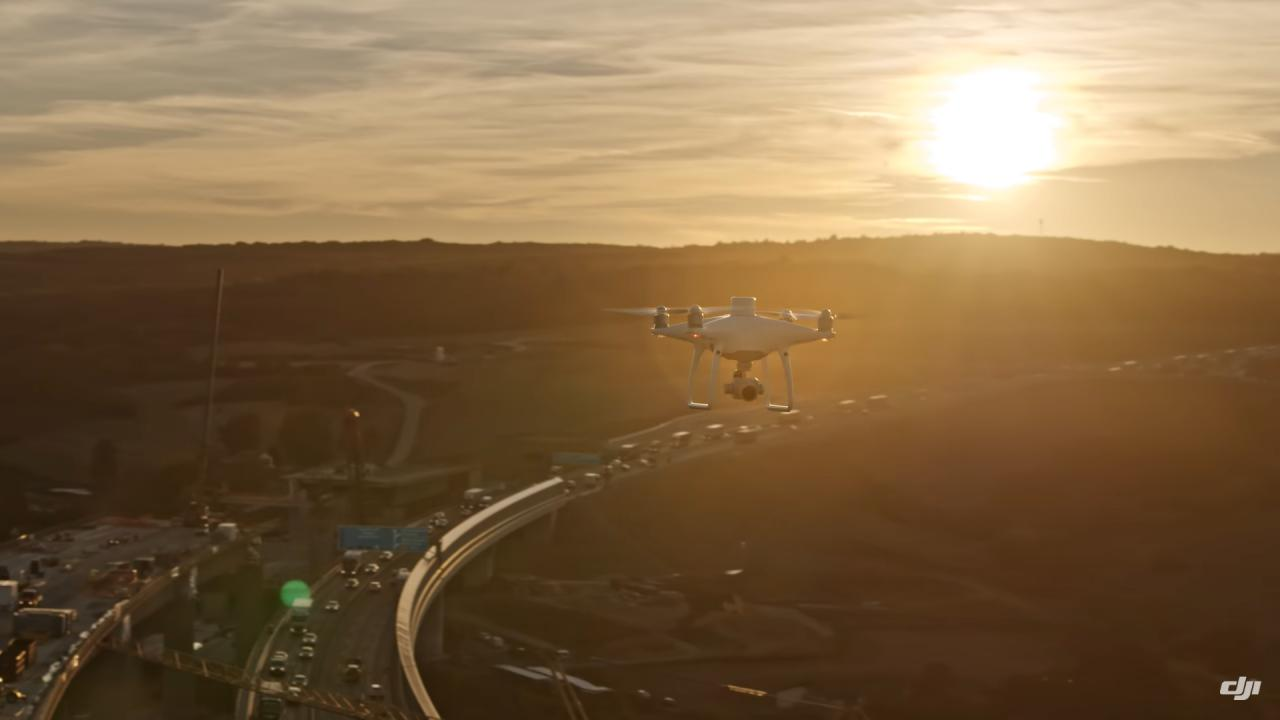Drone: (588, 282, 890, 428)
